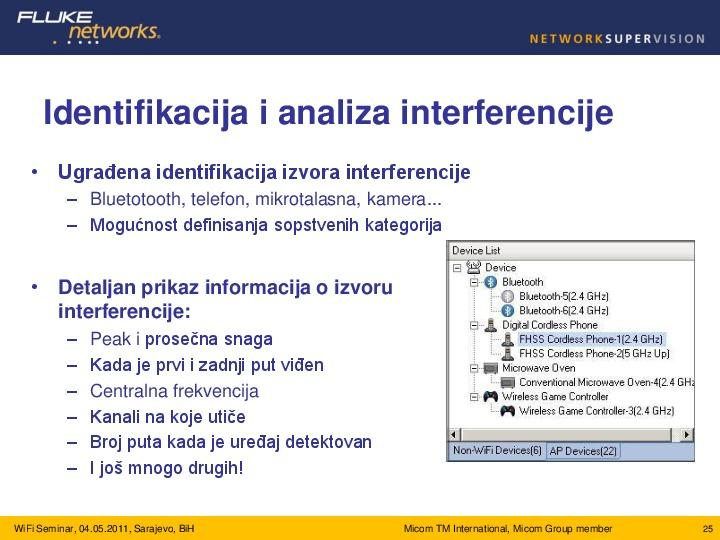paragraph: (20, 153, 710, 505)
subtitle: (26, 86, 629, 144)
title: (7, 1, 718, 52)
